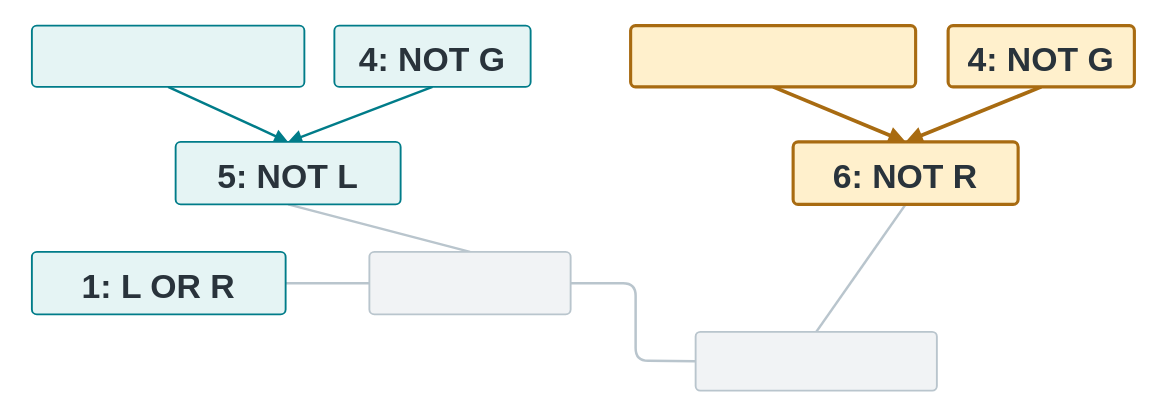
The diagram is 1166 pixels wide and 416 high, and some of its shapes have lost their labels. The centre of each missing label's shape, as x and y in pixels:
2: NOT L OR G: (167,55)
3: NOT R OR G: (772,56)
